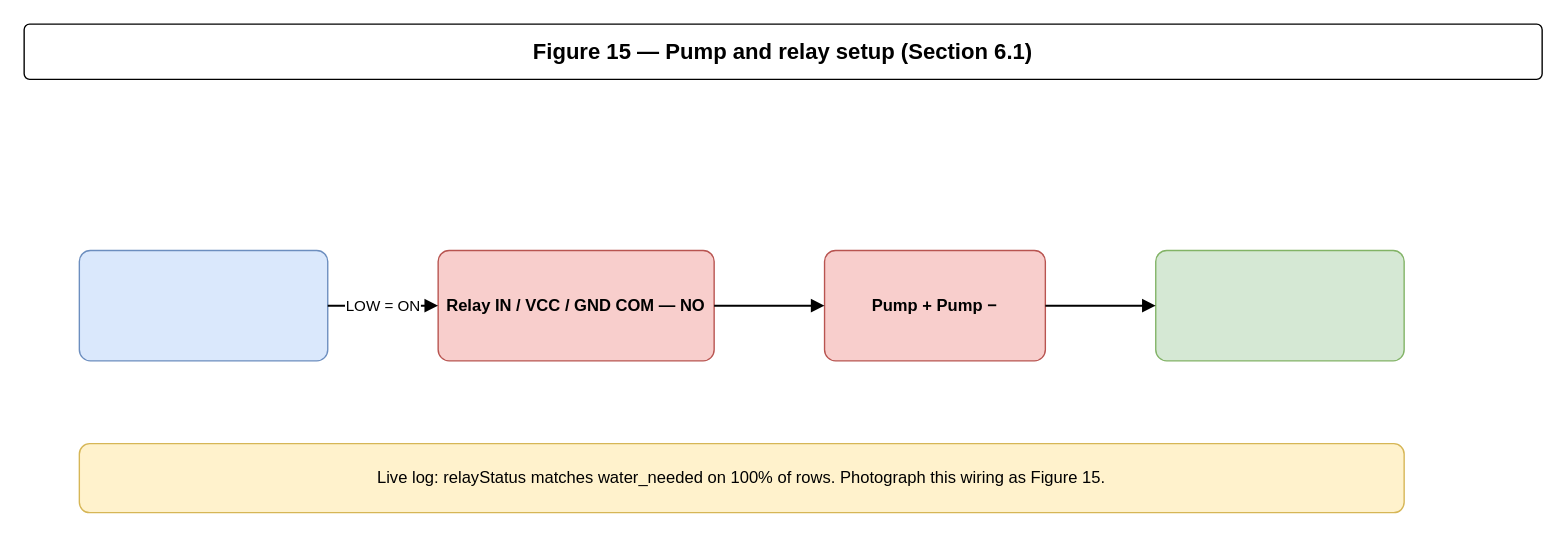
The diagram is 1566 pixels wide and 537 high, and some of its shapes have lost their labels. Here are the shapes that lost their labels. From the top down, the centre of each, then its label:
the point at 203,305: ESP32 GPIO 1 active-low
the point at 1279,305: Water to tomato bed
